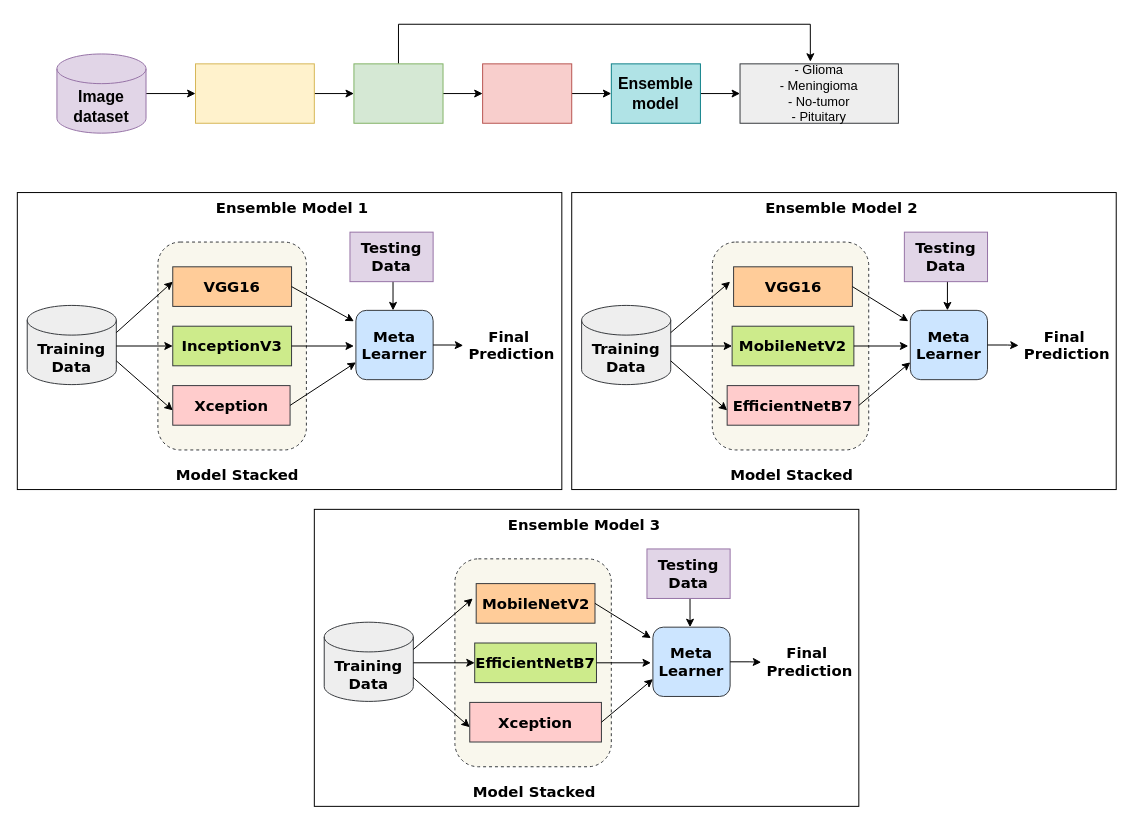
Some shapes in this 1134 by 824 pixel diagram are drawn without their labels. The shapes that lost their labels are listed below. From the top down, each one's centre as x and y in pixels, then its label:
the point at 254,93: Image Preprocessing
the point at 398,93: Apply pre-trained CNN model
the point at 527,93: Feature Extraction
